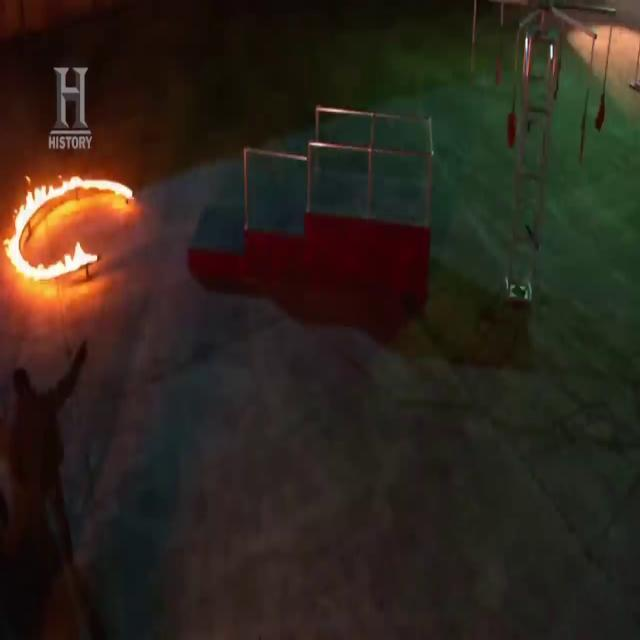Fire: (3, 151, 141, 300)
